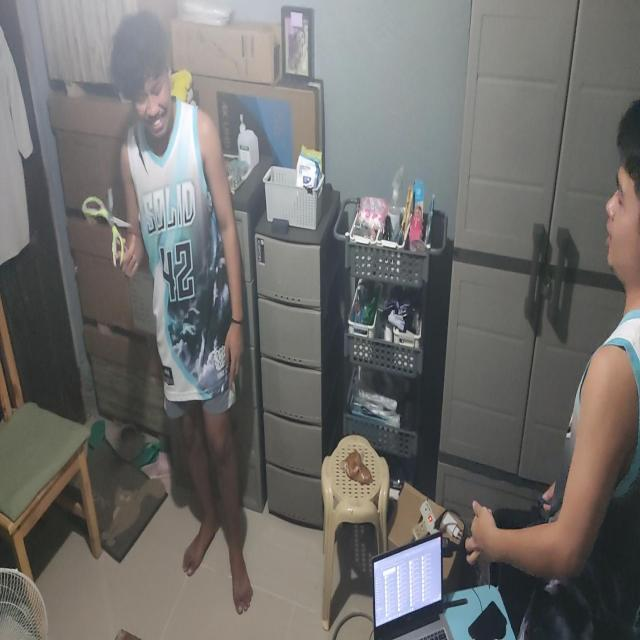scissor: (81, 186, 130, 270)
